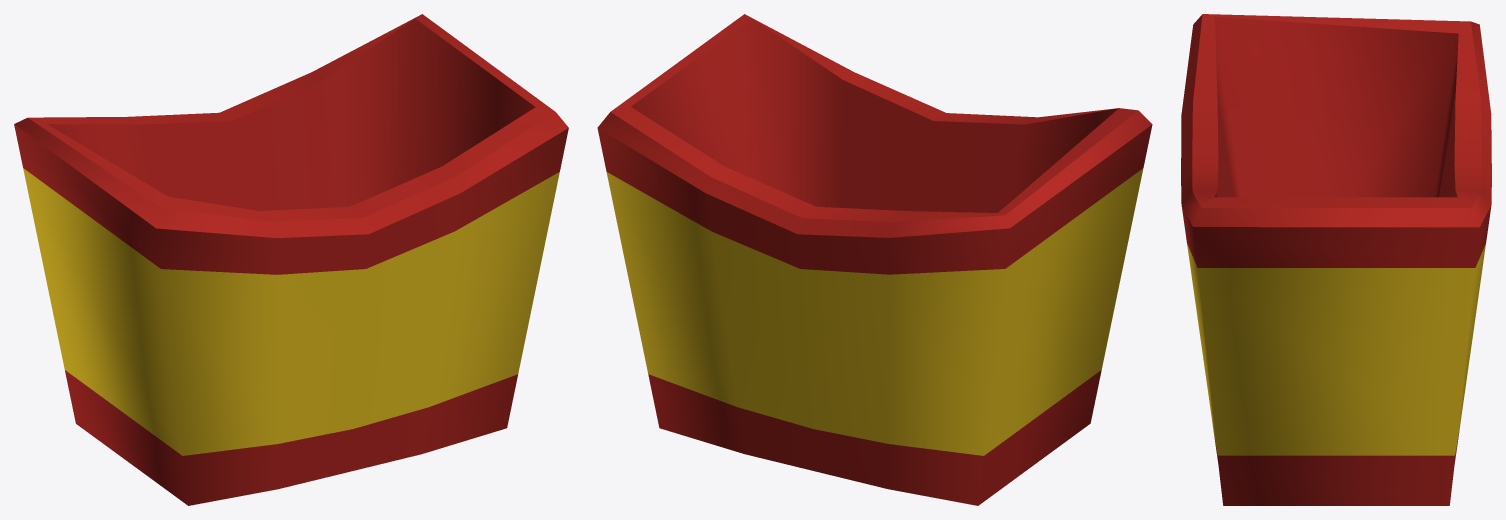
Rendered from FriesBox.glb.
3 renders of one model, left to right at view 1: azimuth 30°, elevation 25°; view 2: azimuth 150°, elevation 25°; view 3: azimuth 270°, elevation 25°, orthographic.
Visible parts, largest first — view 1: FriesBox; view 2: FriesBox; view 3: FriesBox.
Boxes of the visible parts, box(x1,y1,x2,y2) form: FriesBox: box(14, 14, 568, 505); FriesBox: box(597, 14, 1152, 505); FriesBox: box(1181, 14, 1491, 505).
Bounding box in the file's own units: 0.2113 × 0.1572 × 0.1369.
1 material, 1 textured.
